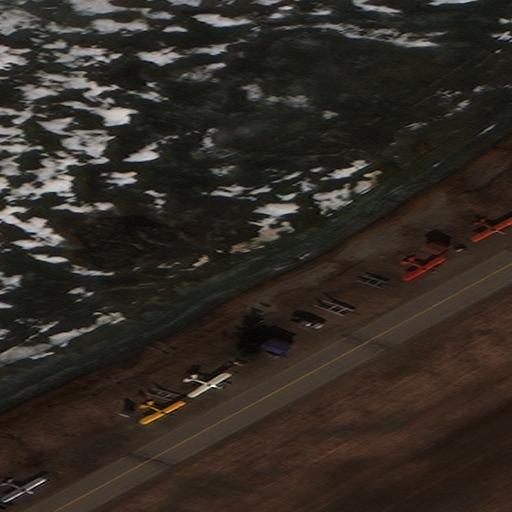Small Civil Transport: (2, 479, 48, 503), (405, 256, 446, 281), (187, 374, 231, 397), (143, 403, 187, 425), (475, 219, 512, 243)
